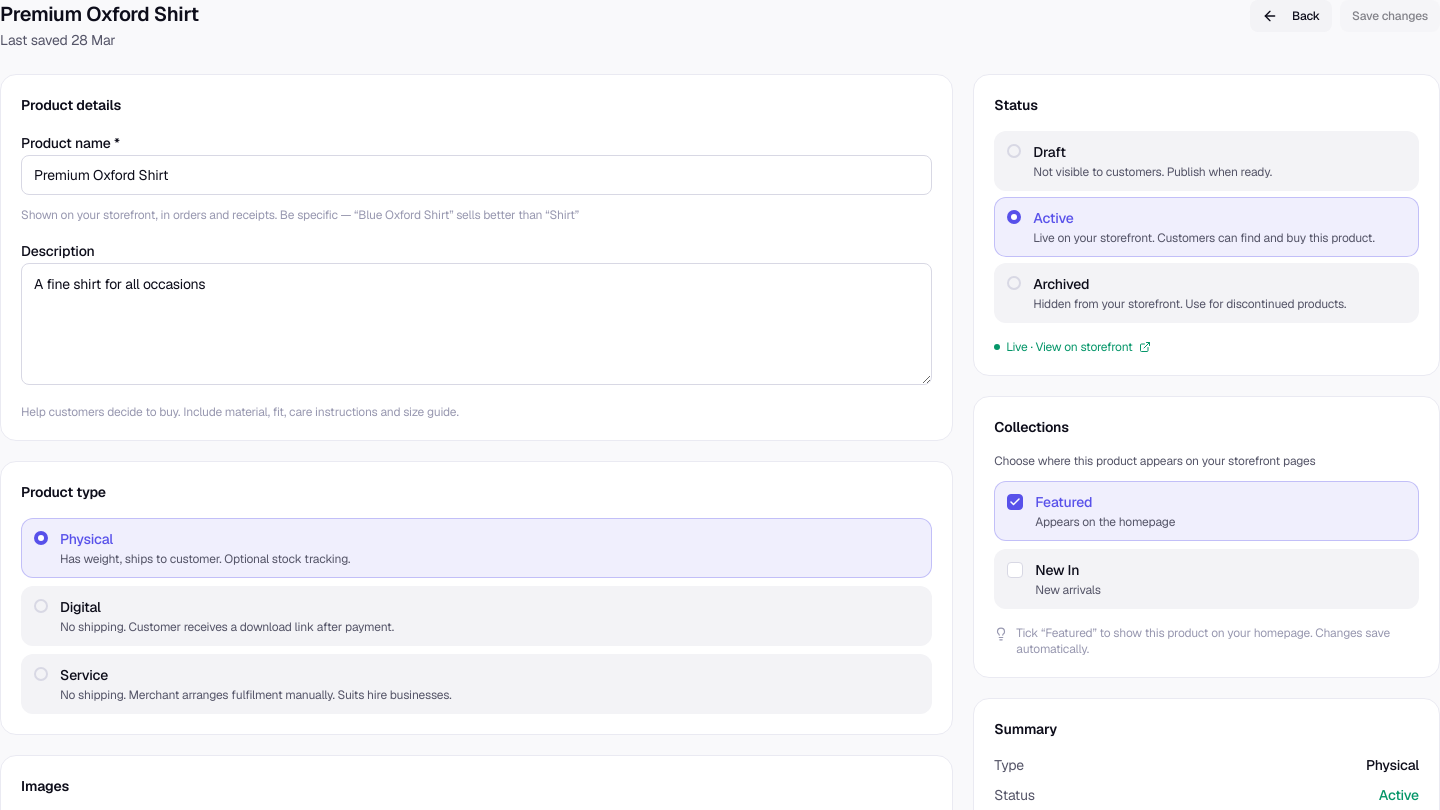
Test: ProductForm — navigation intercept › "Stay and save" closes modal and keeps user on page
The image size is (1440, 810).
Expected: the heading "Premium Oxford Shirt" is shown, [0,0,199,28]
In the field labelled "Product name *": (477, 175) [21,155,932,195], type " changed"
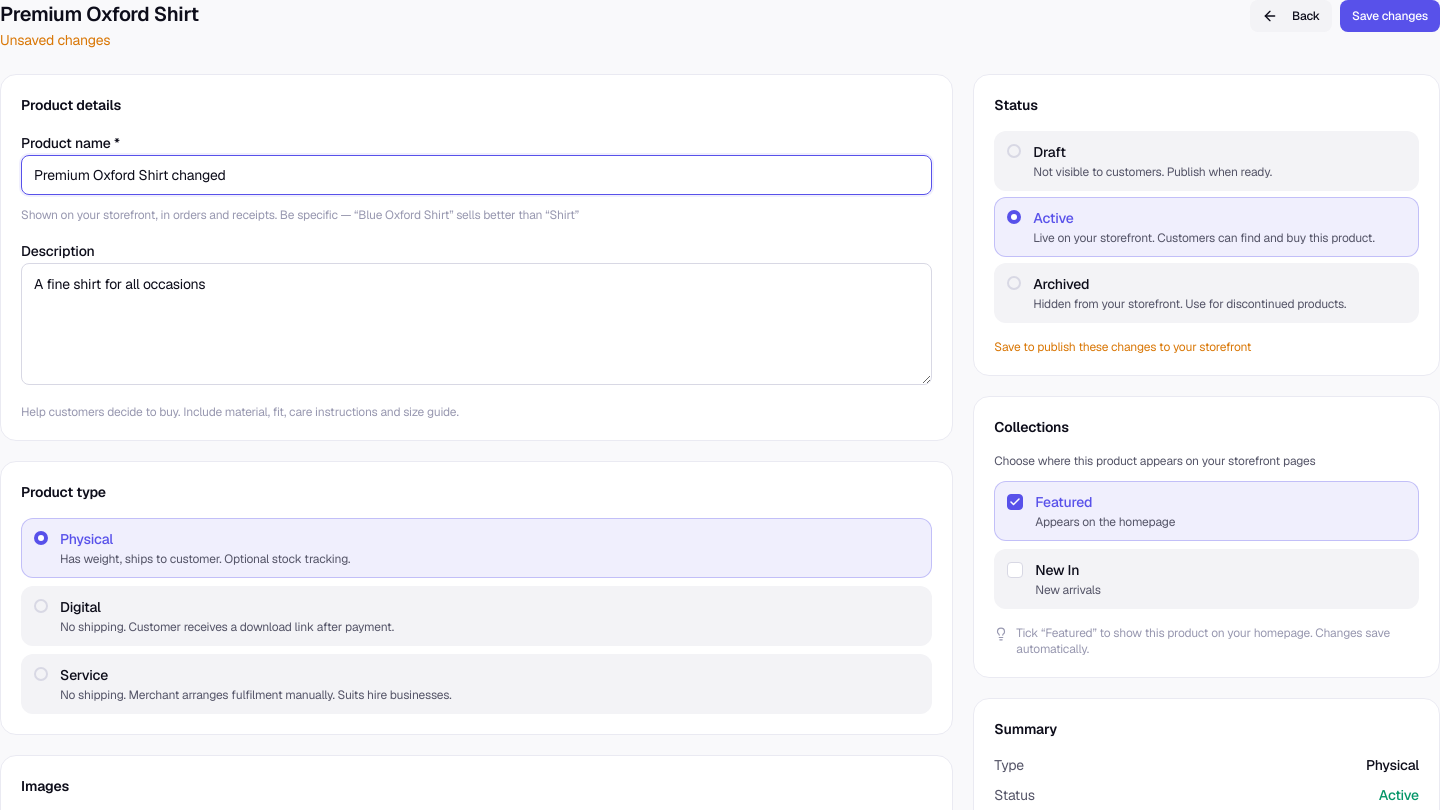
Click the button "Back": (1291, 16) [1250,0,1332,32]
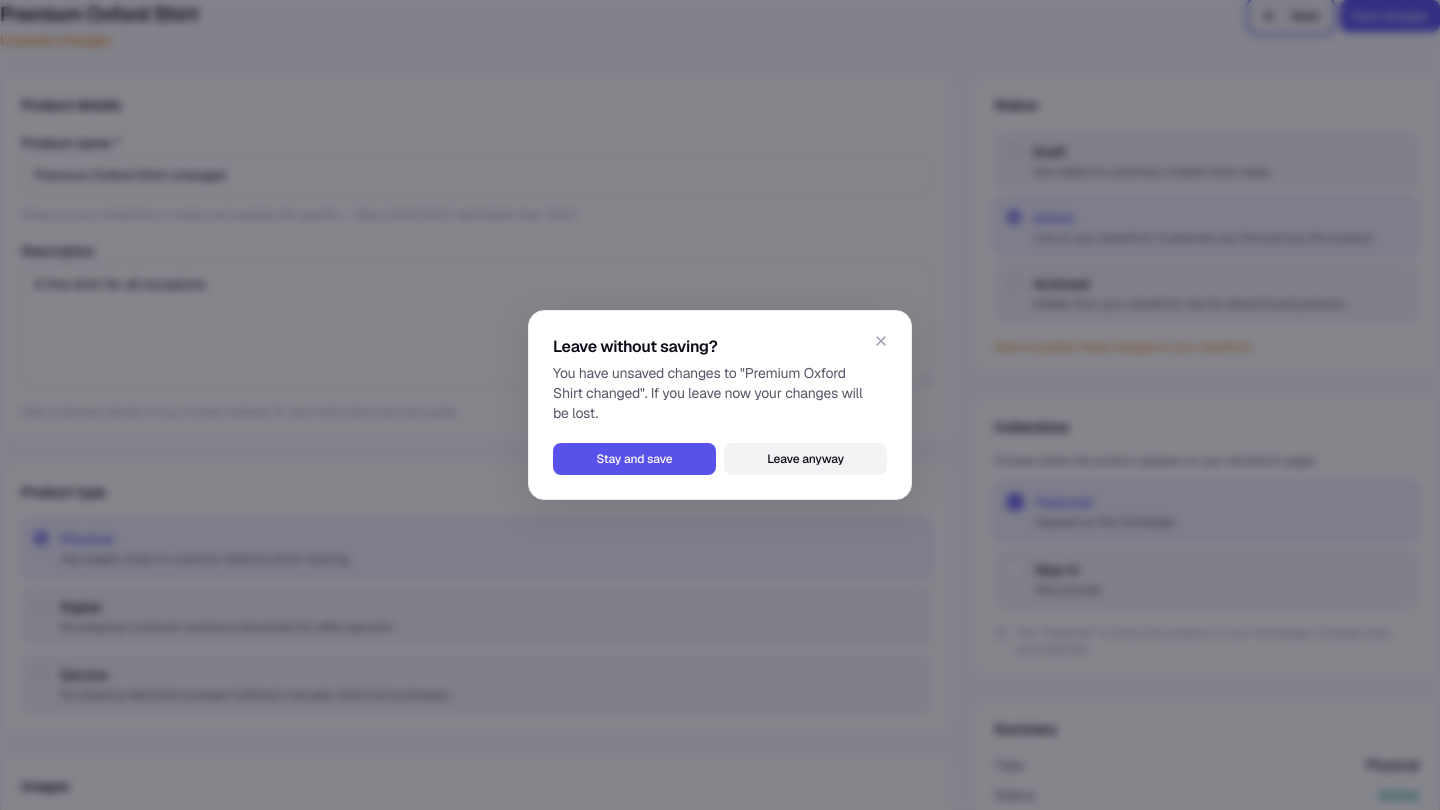
Result: the heading "Leave without saving?" is shown at [553,336,717,357]
Click the button "Stay and save": (634, 459) [553,443,716,475]
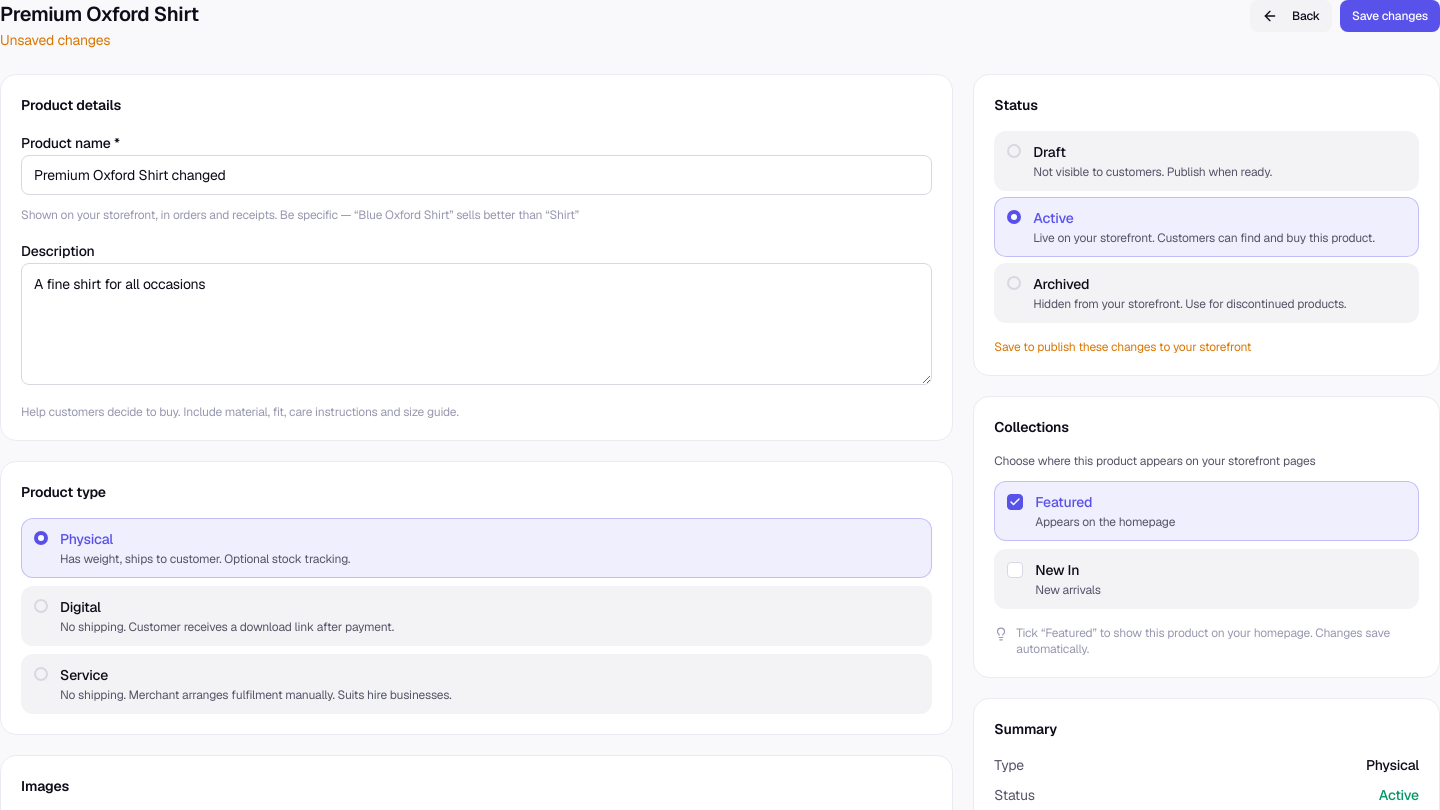
Expected: the field labelled "Product name *" is shown, [21,155,932,195]
Result: the heading "Leave without saving?" is gone
